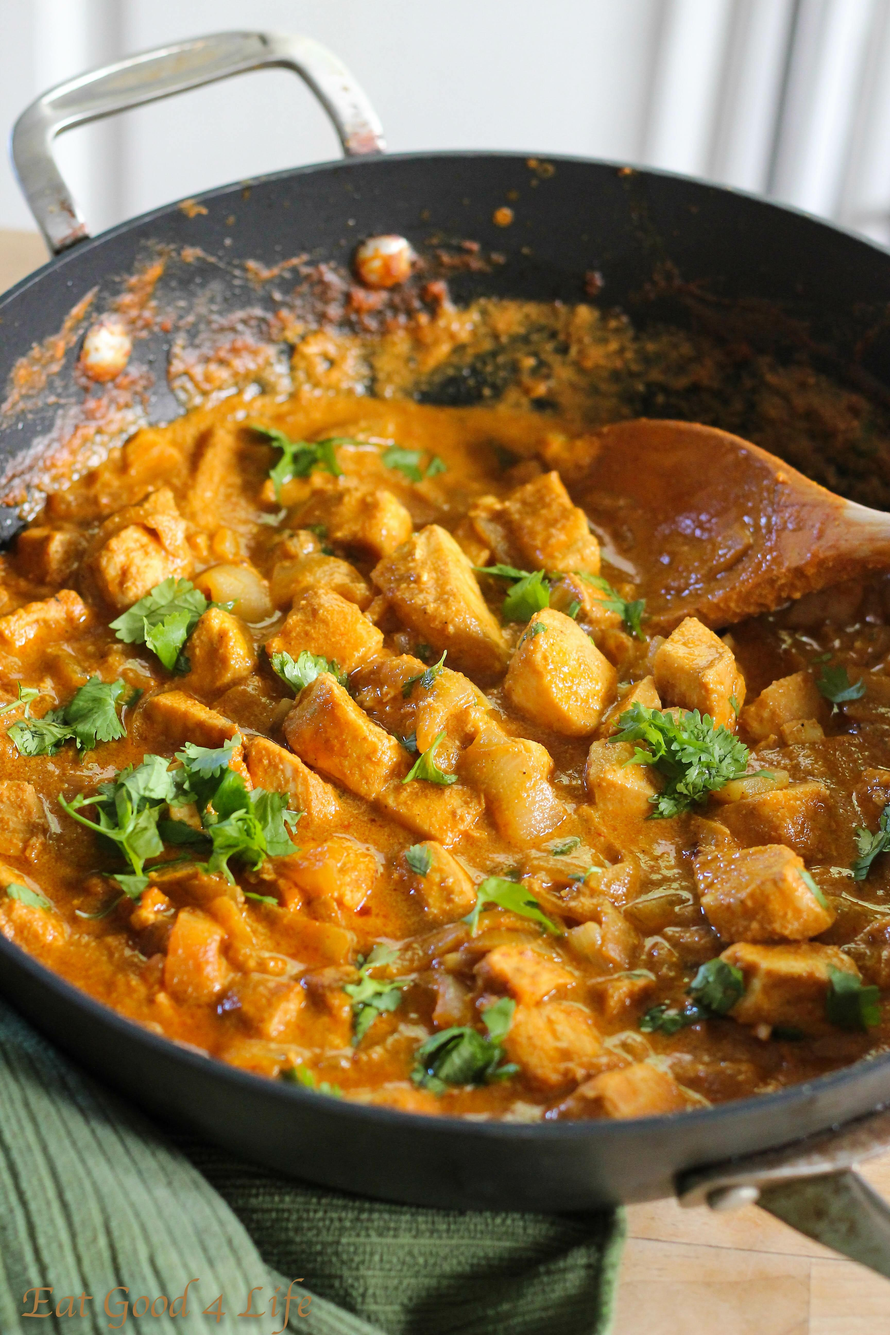FishCurry: (0, 294, 890, 1119)
